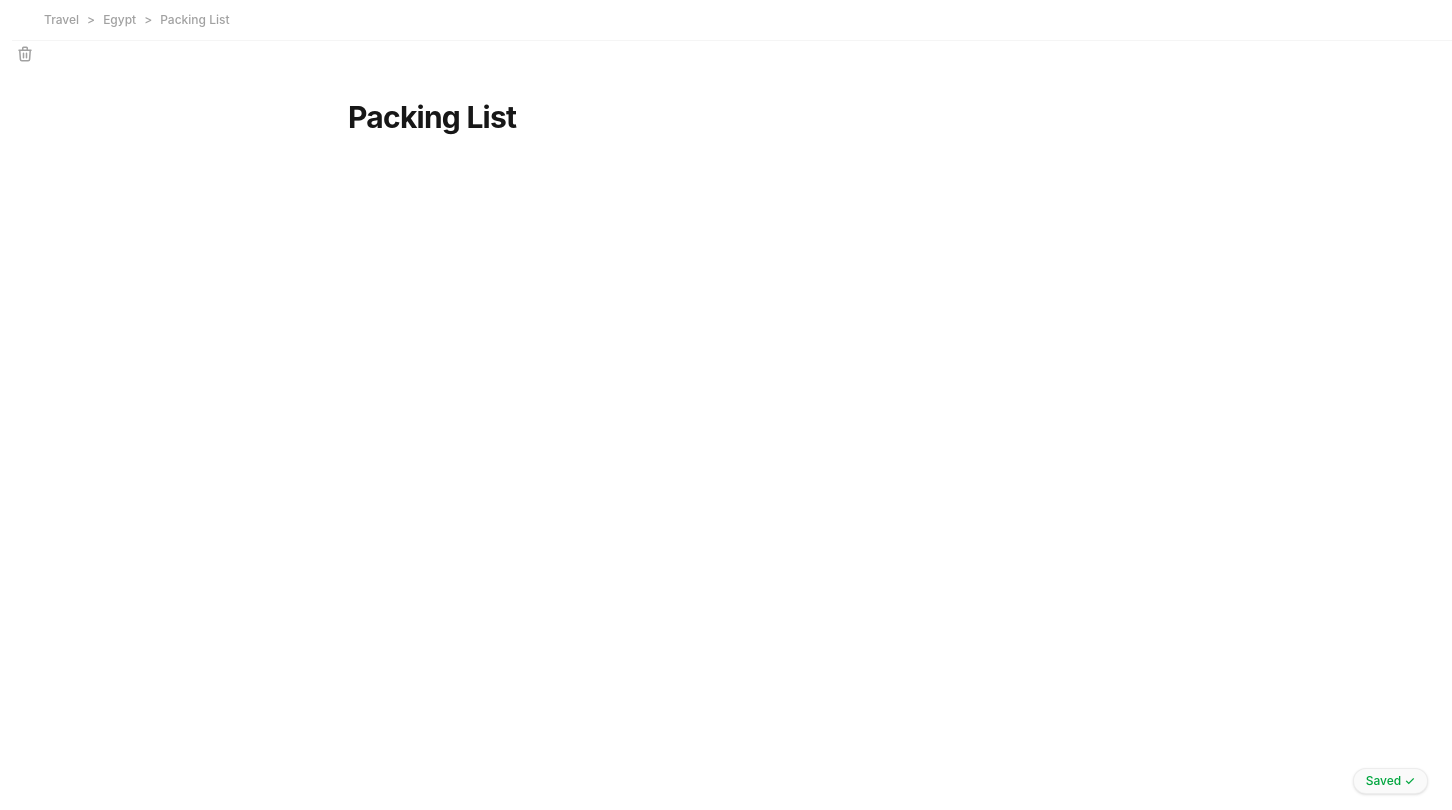
Test case: EditorCanvas Component Tests › toggles the delete confirmation UI state correctly
# Click trash icon to enter delete mode
What coordinates should you click on to do the following:
click the button titled "Delete Note"
I would click on:
 (25, 54)
Its box is [12,41,38,67].
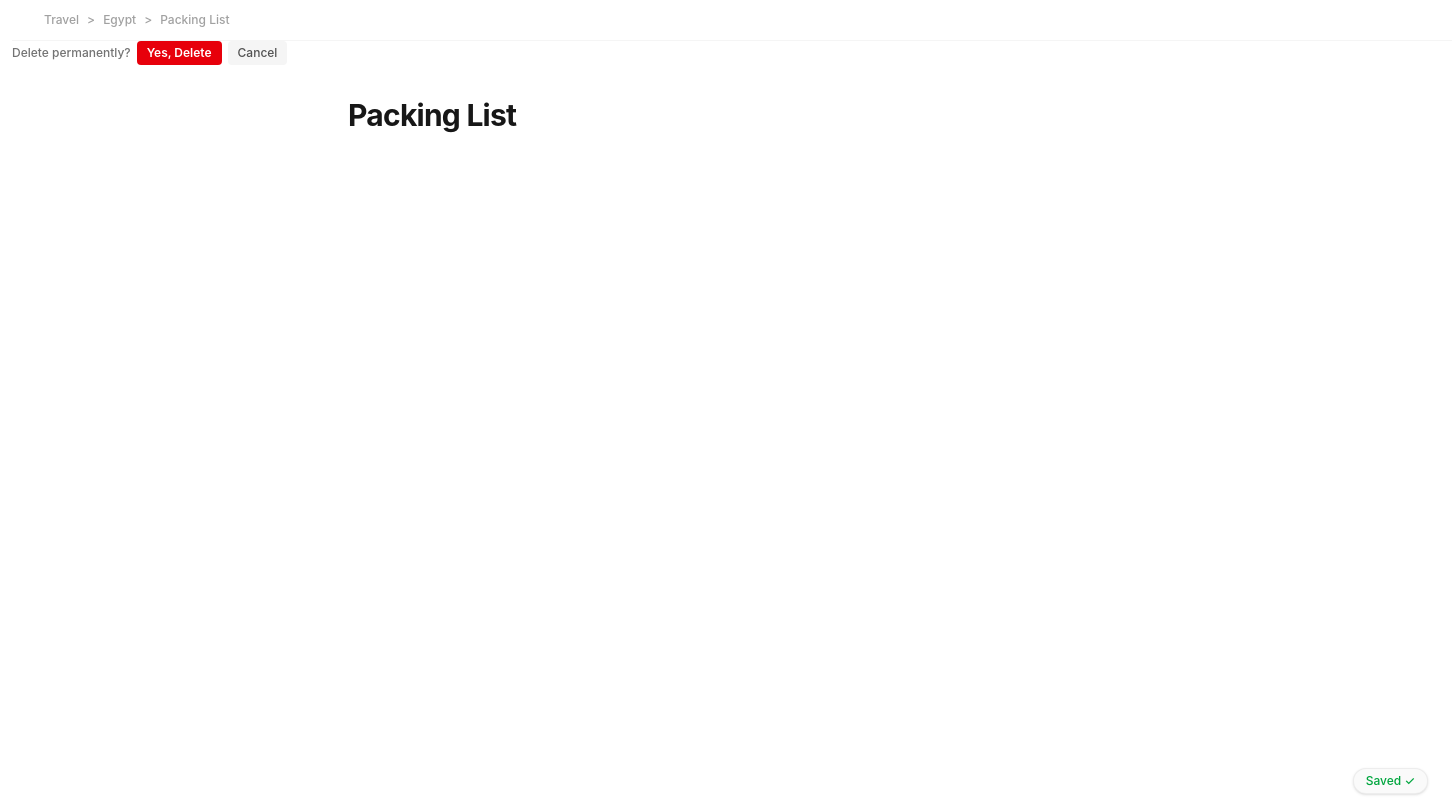
Result: the text "Delete permanently?" is shown at [12,45,131,61]
Result: the button "Yes, Delete" is shown at [137,41,222,65]
Result: the button "Cancel" is shown
# Click cancel to revert back to normal state
What coordinates should you click on to do the following:
click the button "Cancel"
I would click on:
 (257, 53)
Its box is [228,41,287,65].
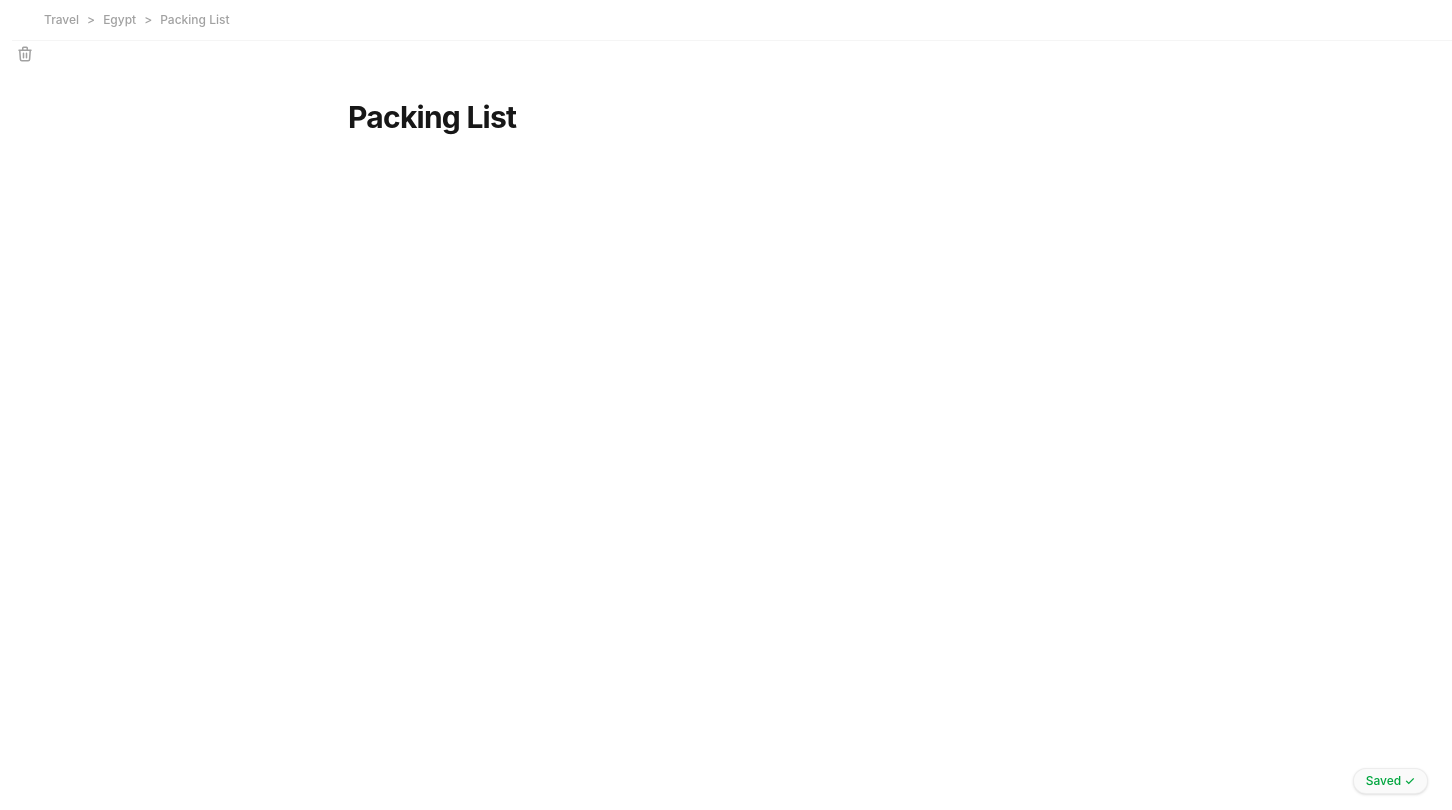
Result: the text "Delete permanently?" is gone
Result: the button titled "Delete Note" is shown at [12,41,38,67]
